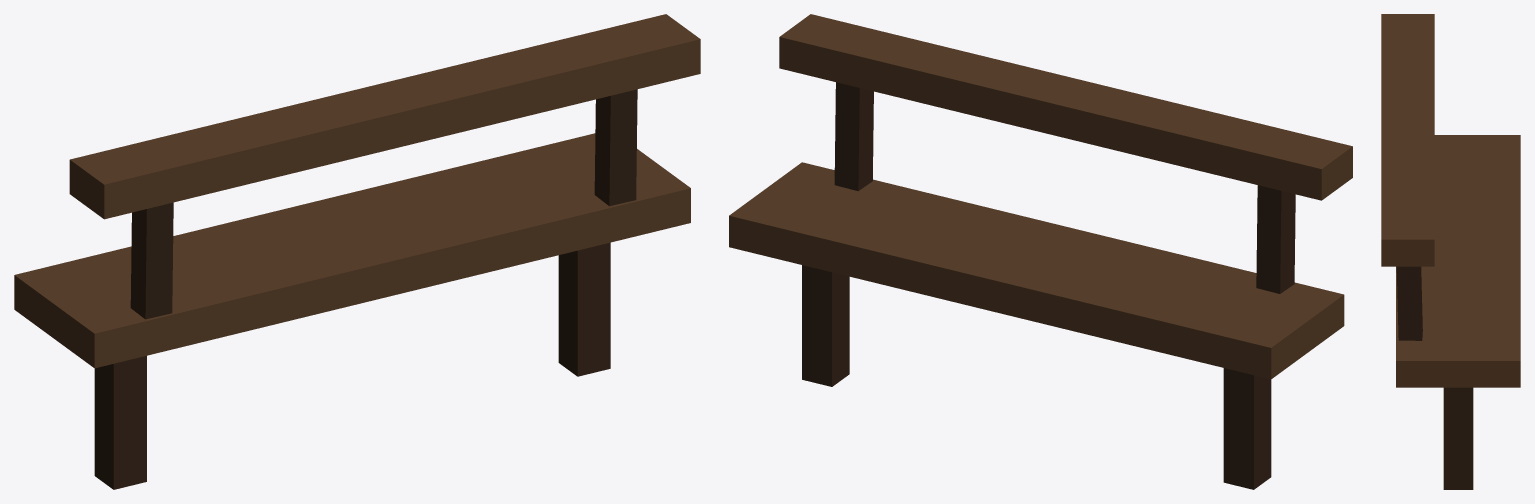
The model's file is AUR_Bench.obj.
The picture shows the model from 3 angles, left to right: view 1: azimuth 30°, elevation 25°; view 2: azimuth 150°, elevation 25°; view 3: azimuth 270°, elevation 25°; orthographic projection. The views are drawn at different scales.
Parts seen in each view (by area): view 1: seat_0, back_1, leg_4, leg_2, back_support_5, back_support_3; view 2: seat_0, back_1, leg_2, leg_4, back_support_3, back_support_5; view 3: seat_0, back_1, leg_4, back_support_5.
Boxes of the visible parts, <box> form: seat_0: <box>14,133,690,368</box>; back_1: <box>69,14,700,219</box>; leg_4: <box>558,242,610,376</box>; leg_2: <box>94,355,146,489</box>; back_support_5: <box>594,89,637,206</box>; back_support_3: <box>130,202,173,319</box>; seat_0: <box>729,162,1344,379</box>; back_1: <box>779,14,1352,200</box>; leg_2: <box>1223,368,1271,489</box>; leg_4: <box>802,265,849,386</box>; back_support_3: <box>1256,185,1295,293</box>; back_support_5: <box>834,82,873,191</box>; seat_0: <box>1396,135,1520,387</box>; back_1: <box>1381,14,1434,266</box>; leg_4: <box>1443,387,1473,489</box>; back_support_5: <box>1396,266,1422,340</box>.
Size of the model in its own units: 1.8 by 1 by 0.47.
